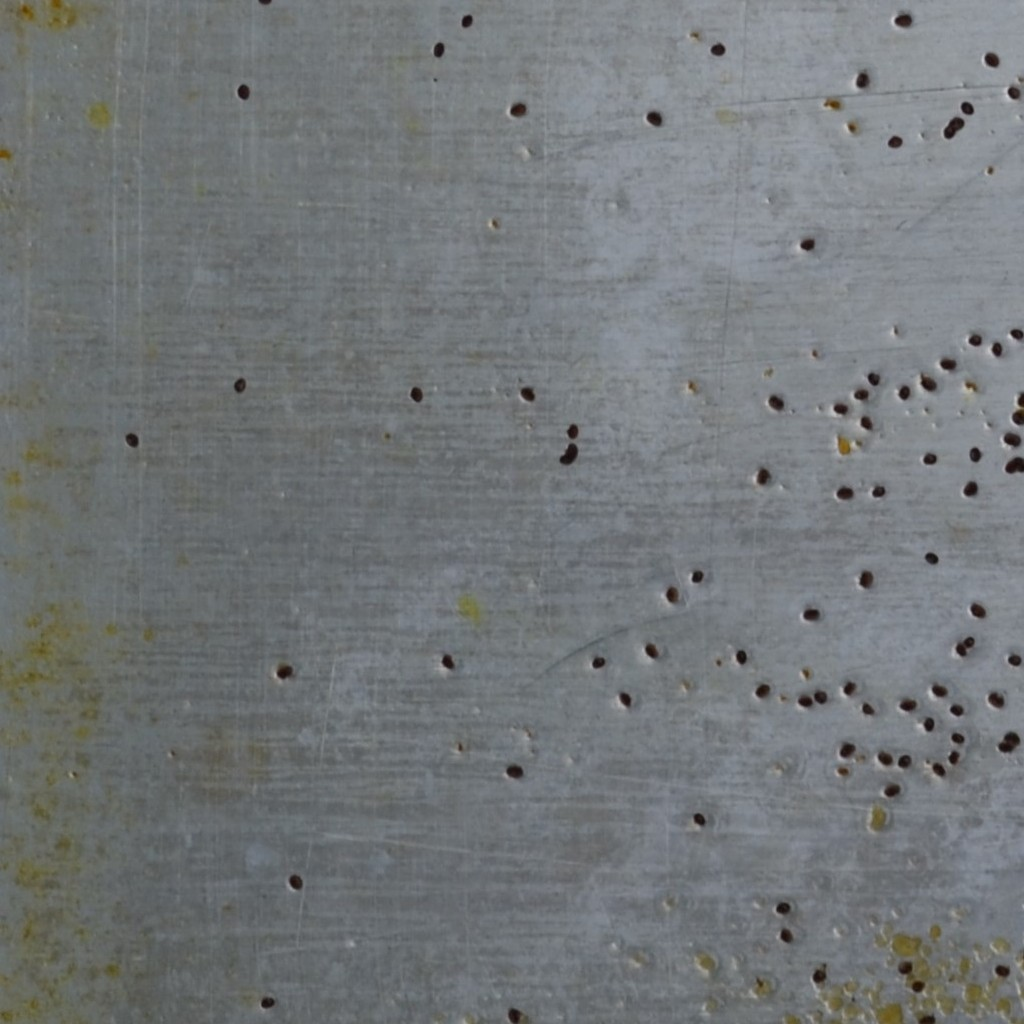varroa: (557, 442, 581, 468), (836, 738, 858, 763), (273, 663, 299, 682), (642, 639, 663, 662), (766, 391, 786, 415), (801, 604, 823, 625), (287, 872, 308, 894), (754, 466, 775, 487), (590, 651, 607, 676), (689, 565, 705, 591), (618, 685, 634, 711), (691, 808, 707, 834), (857, 567, 875, 590), (796, 691, 813, 715), (230, 372, 247, 396), (518, 385, 538, 405), (236, 79, 252, 104), (959, 478, 980, 497), (892, 11, 914, 29), (753, 678, 771, 700), (812, 686, 829, 709), (504, 762, 527, 779), (858, 411, 874, 435), (645, 107, 664, 127), (508, 100, 528, 119), (1004, 455, 1023, 475), (986, 689, 1005, 708), (439, 651, 458, 670), (853, 71, 871, 91), (983, 47, 1000, 68), (898, 698, 919, 715), (959, 97, 975, 119), (408, 384, 424, 406), (124, 428, 139, 451), (896, 958, 914, 977), (919, 376, 939, 393), (1005, 648, 1022, 668), (1003, 726, 1020, 746), (778, 925, 795, 945), (565, 418, 580, 440), (708, 39, 726, 57), (938, 356, 957, 373), (969, 601, 986, 620), (836, 485, 855, 502), (860, 700, 879, 717), (665, 585, 682, 604), (431, 40, 447, 60), (931, 760, 946, 781), (876, 750, 893, 768), (812, 966, 830, 983), (852, 386, 870, 403), (505, 1004, 523, 1021), (458, 12, 474, 31), (929, 683, 948, 699), (733, 647, 749, 666), (992, 962, 1012, 977), (866, 367, 881, 387), (842, 677, 856, 698), (966, 330, 982, 348), (870, 482, 886, 500), (798, 237, 817, 252), (990, 340, 1005, 359), (883, 783, 902, 798), (886, 133, 903, 149), (948, 702, 965, 718), (910, 978, 926, 995), (1001, 433, 1023, 445), (953, 640, 969, 656), (950, 730, 966, 746), (1005, 84, 1020, 101), (942, 125, 959, 140), (922, 451, 939, 466), (996, 739, 1013, 754), (968, 445, 982, 463), (924, 550, 939, 566), (947, 749, 961, 766), (897, 383, 910, 401), (259, 995, 277, 1008), (922, 716, 936, 732), (897, 754, 913, 768), (774, 899, 790, 913), (1009, 326, 1023, 340), (1010, 413, 1023, 427), (949, 116, 965, 127), (1015, 390, 1023, 409), (964, 635, 975, 648)
